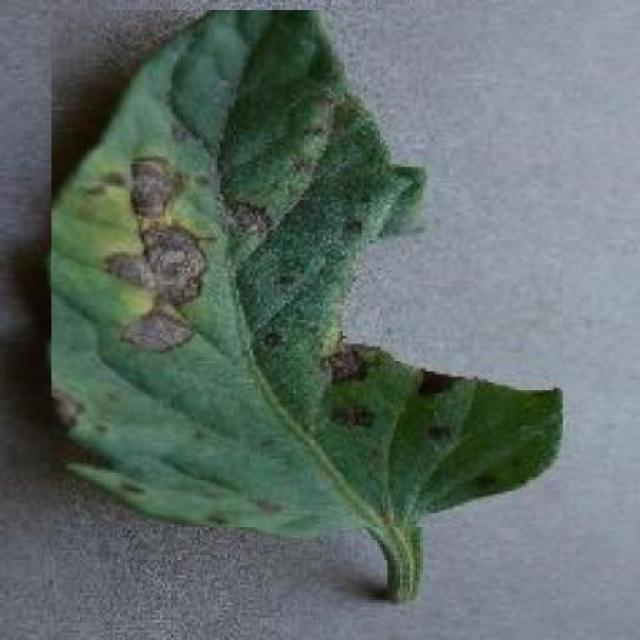Early Blight: (52, 10, 564, 527)
